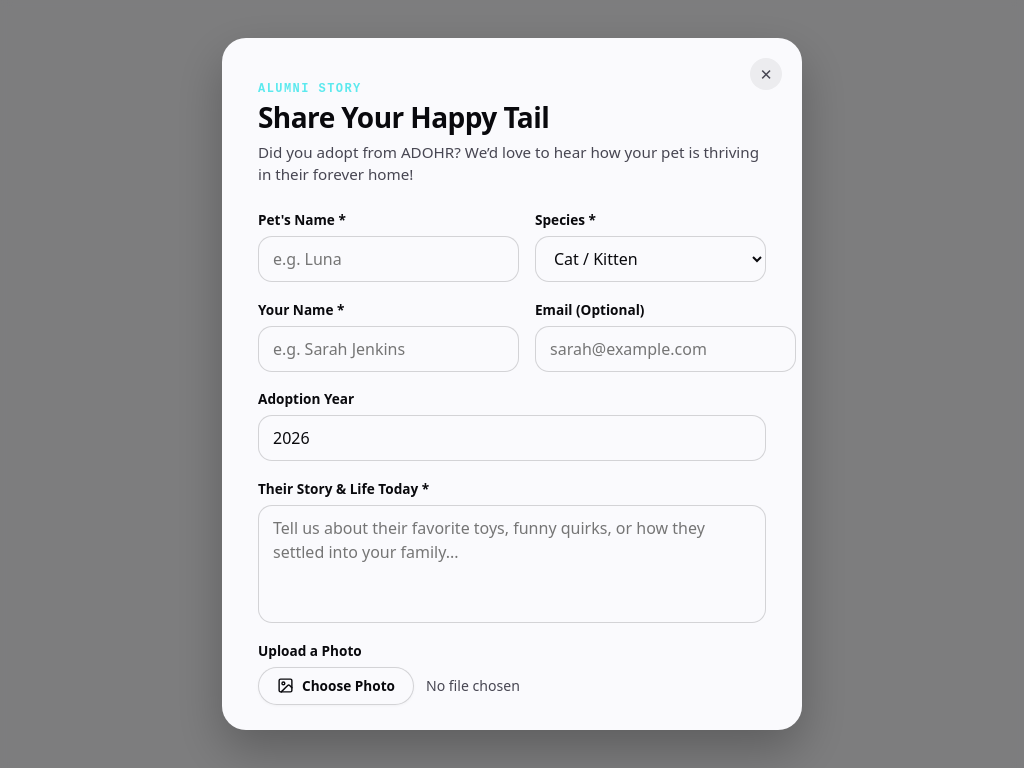
Test: SubmitHappyTailModal.vue › validates invalid email when entered
The image size is (1024, 768).
Type "Luna" into the field with id "ht-pet-name" at (388, 259), box x1=258 y1=236 x2=519 y2=282
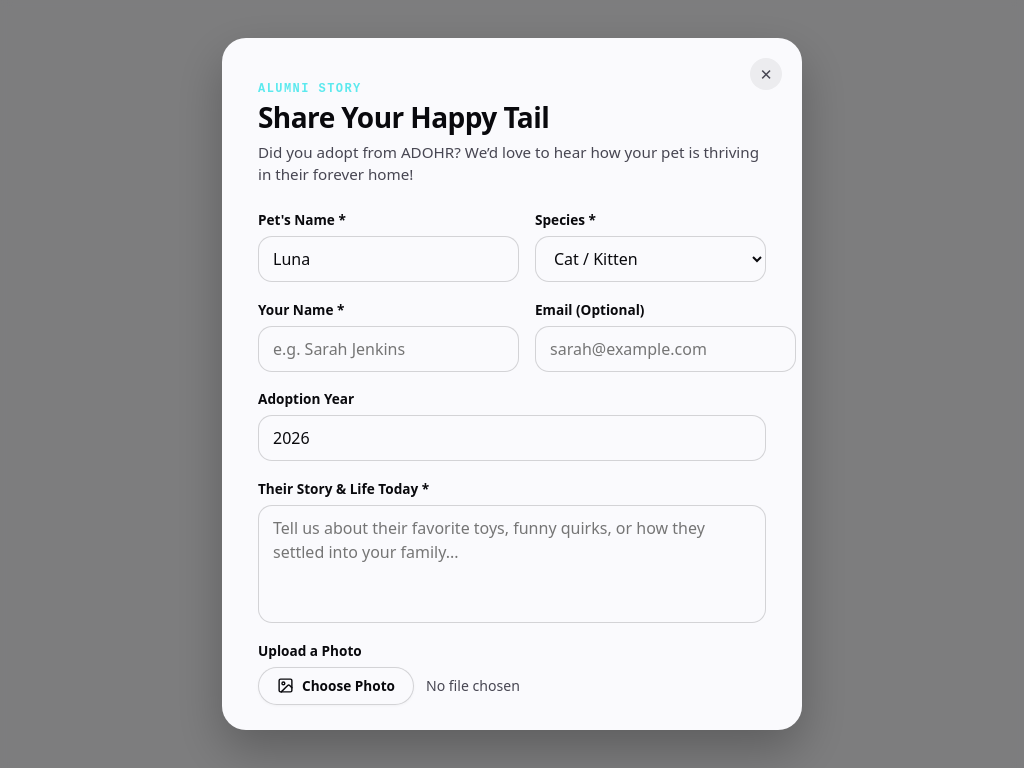
Type "Sarah" into the field with id "ht-adopter-name" at (388, 349), box x1=258 y1=326 x2=519 y2=372
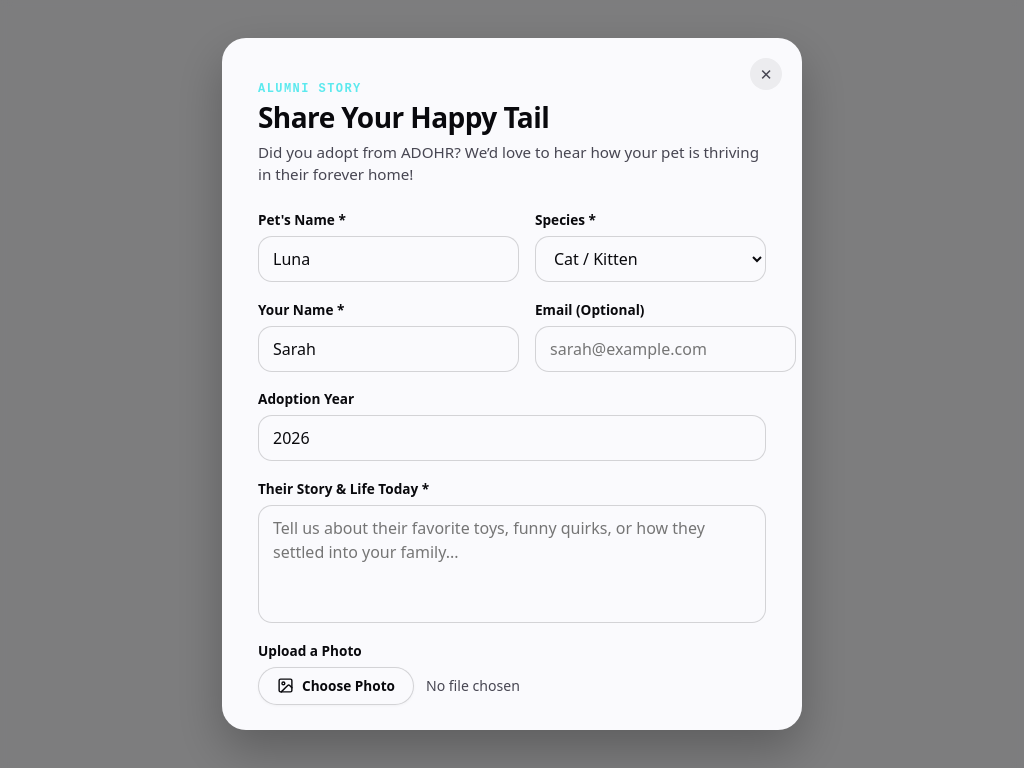
Type "invalid-email" into the field with id "ht-adopter-email" at (666, 349), box x1=535 y1=326 x2=796 y2=372
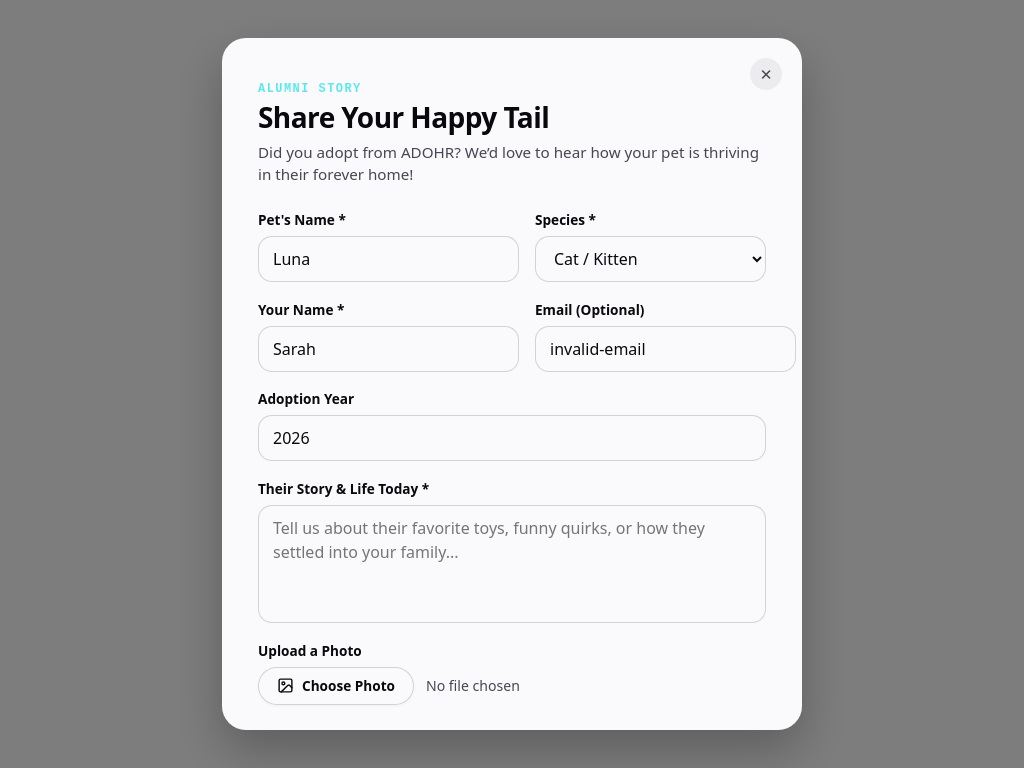
Replace the text in the text box with id "ht-story" with "This is a wonderful story about our rescued kitten." at (512, 564), box x1=258 y1=505 x2=766 y2=623
(page scrolled)
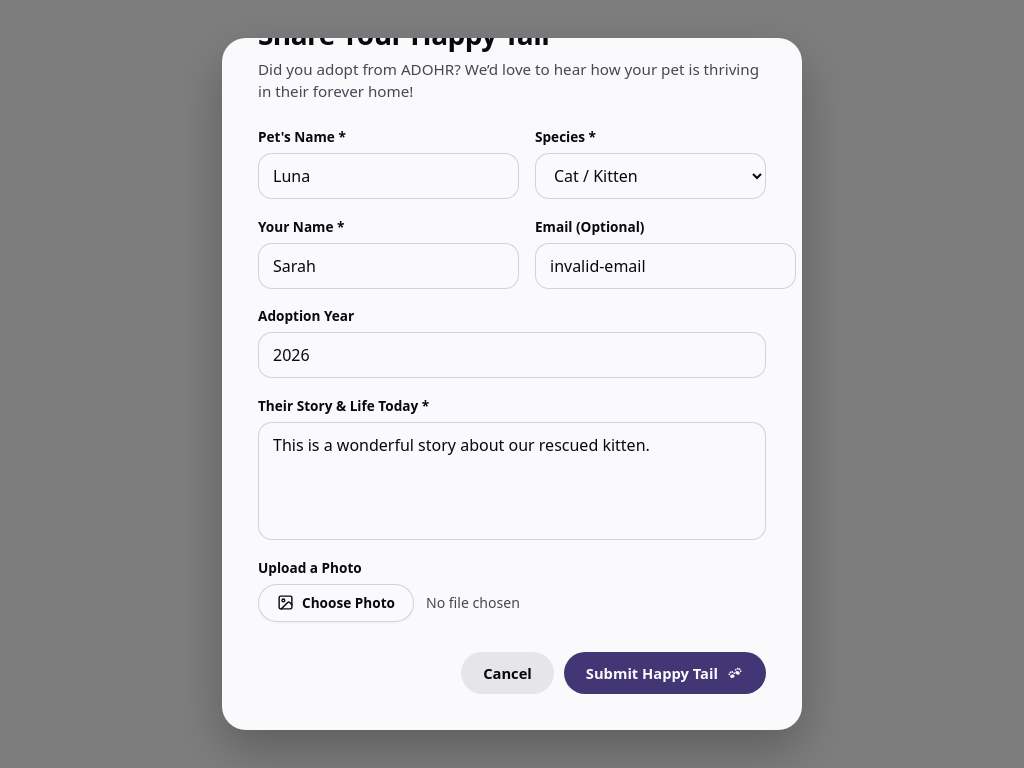
Submit the form, box x1=258 y1=127 x2=766 y2=694
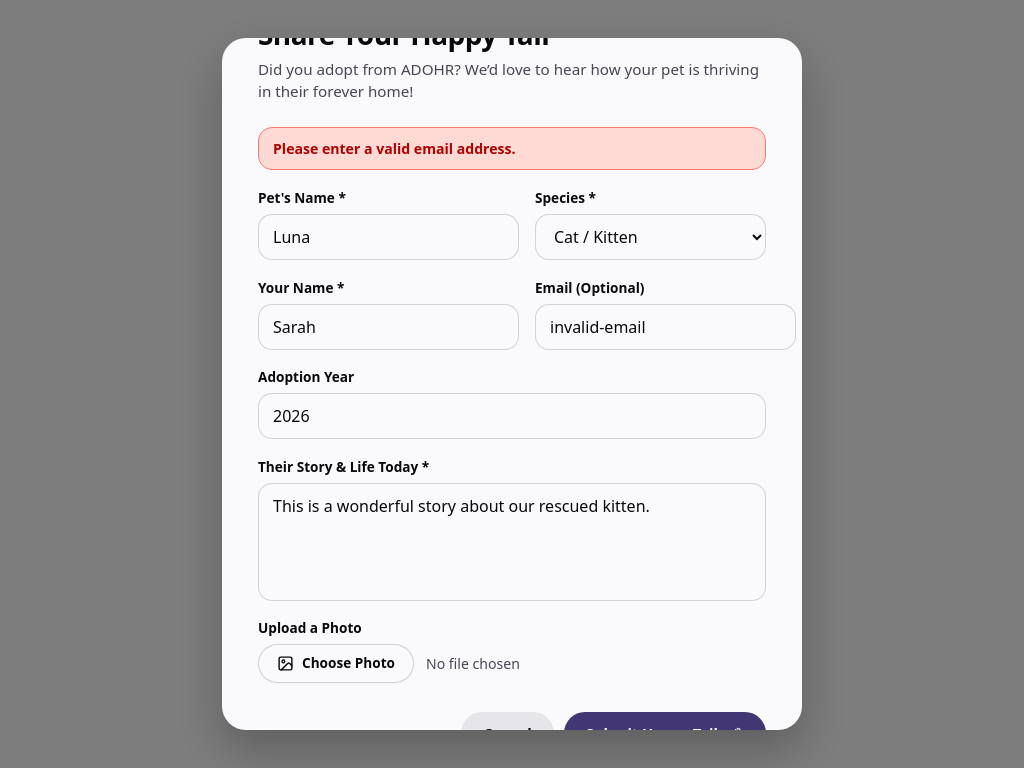
expect the message "Please enter a valid email address." is shown: met, box x1=258 y1=127 x2=766 y2=170
expect the message with class "form-error" shows "valid email": met, box x1=273 y1=139 x2=516 y2=158
